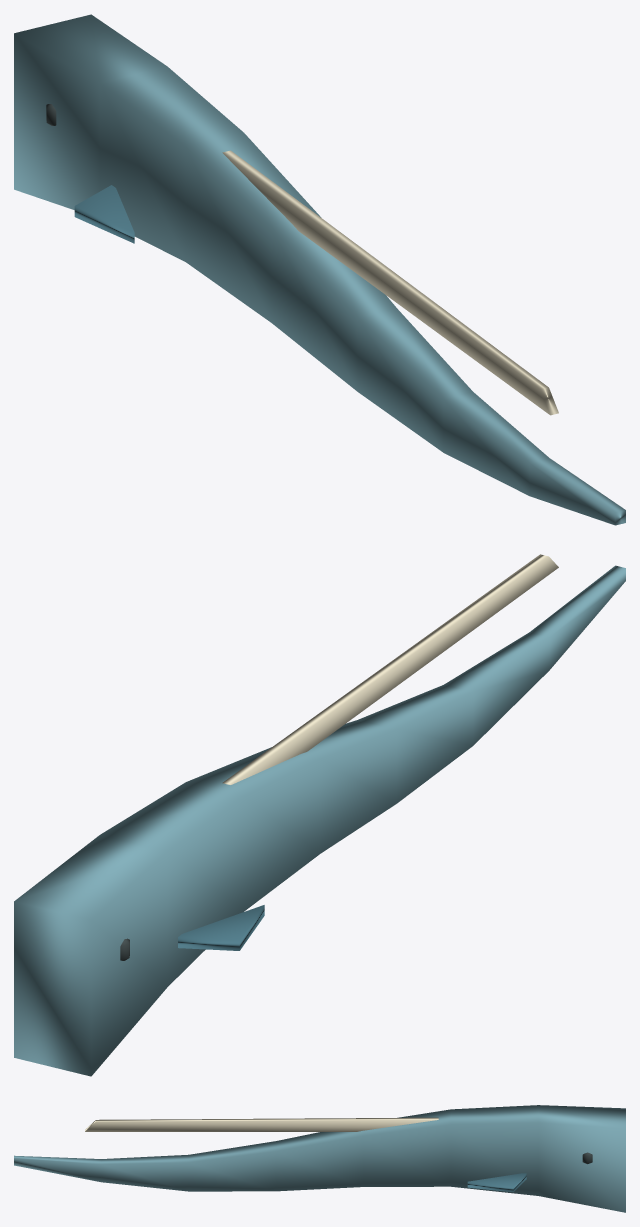
Rendered from fish_cutlassfish_low.glb.
3 views of the same model, one above another, from view 1: azimuth 30°, elevation 25°; view 2: azimuth 150°, elevation 25°; view 3: azimuth 270°, elevation 25° (orthographic). The views are drawn at different scales.
Bounding box in the file's own units: 0.094 × 0.0896 × 0.56.
